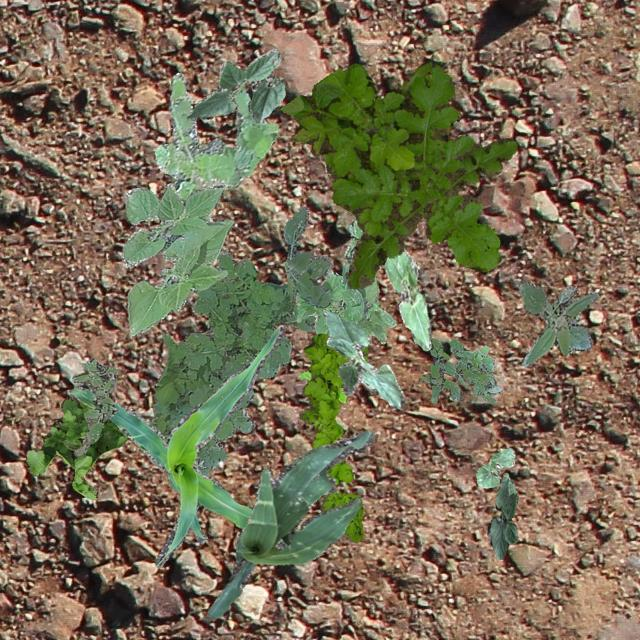crop: (69, 324, 284, 566), (206, 429, 372, 616), (121, 182, 232, 336), (322, 308, 402, 408), (186, 47, 284, 121), (296, 262, 386, 342), (380, 248, 430, 350), (487, 472, 518, 558), (474, 446, 514, 486)
weed: (279, 59, 516, 288), (148, 248, 314, 476), (154, 72, 278, 220), (298, 332, 368, 542), (26, 396, 126, 498), (324, 218, 394, 326), (516, 280, 596, 366), (418, 338, 502, 402), (282, 206, 332, 306), (72, 358, 116, 456), (298, 369, 346, 402)
